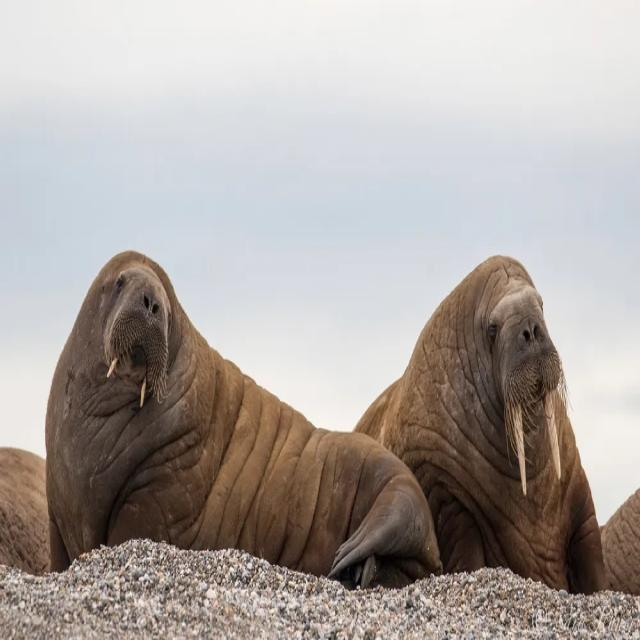walrus: (34, 240, 432, 581), (355, 231, 598, 589)
